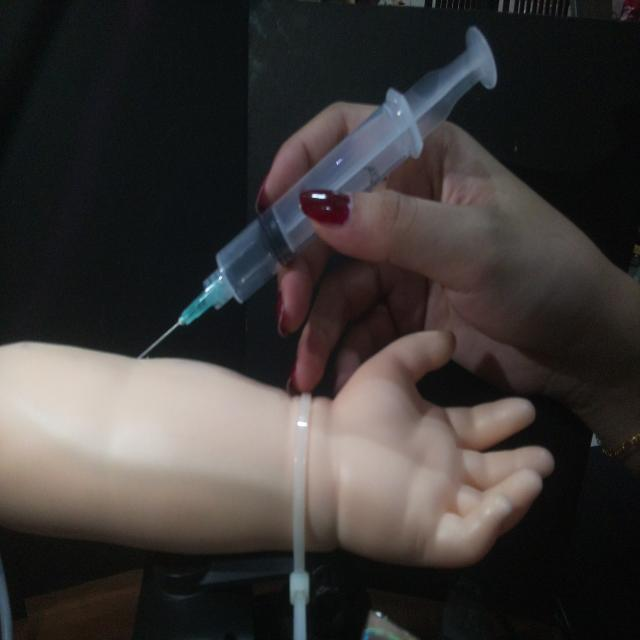29deg: (132, 22, 501, 361)
